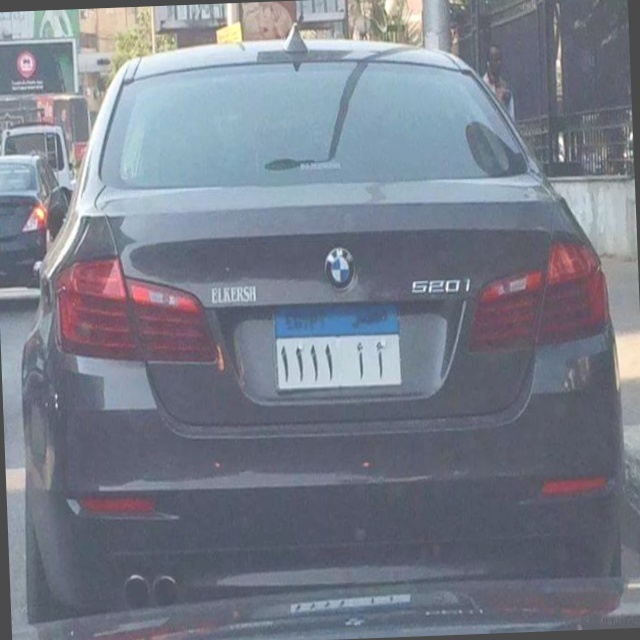License Plate: (272, 303, 405, 393)
